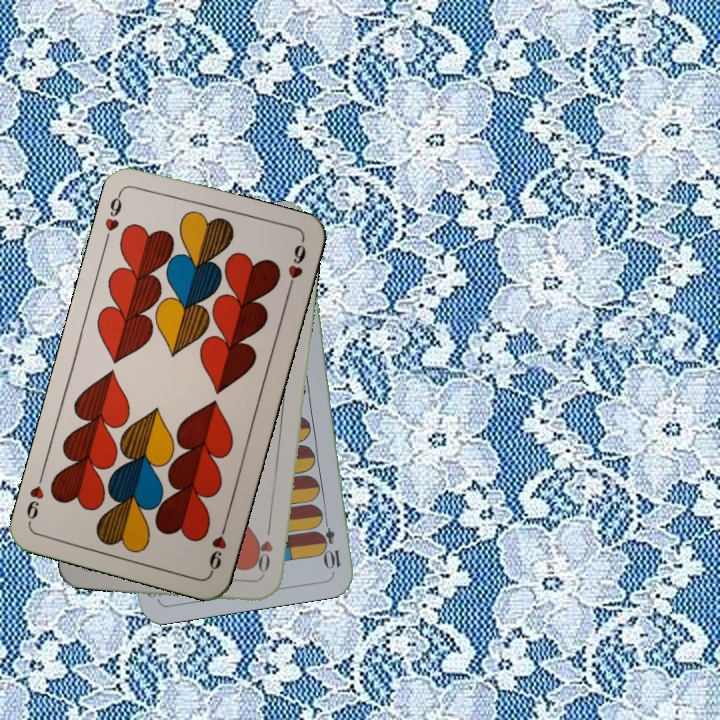E10: (318, 512, 344, 572)
H9: (205, 517, 230, 576), (100, 187, 125, 245)
HO: (252, 522, 276, 580)
